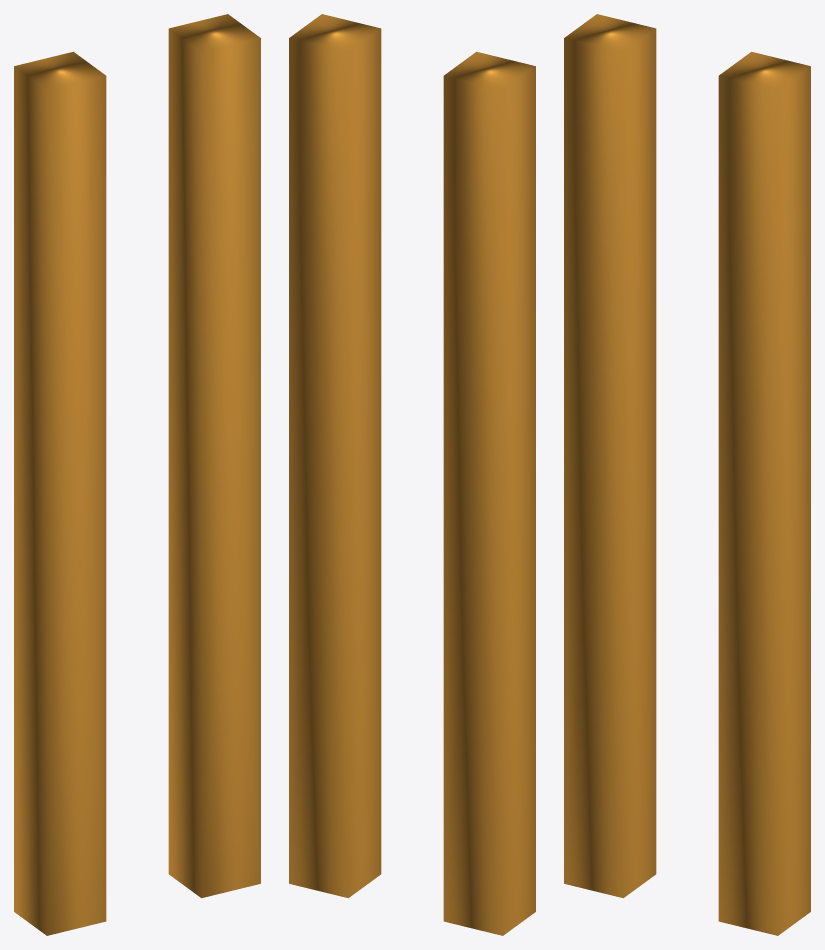
Rendered from SM_Tourelle_Canons.obj.
The picture shows the model from 3 angles, left to right: view 1: azimuth 30°, elevation 25°; view 2: azimuth 150°, elevation 25°; view 3: azimuth 330°, elevation 25°; orthographic projection.
Size of the model in its own units: 900 by 3400 by 240.
